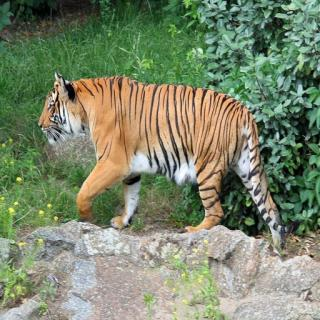Tiger: (33, 62, 291, 266)
